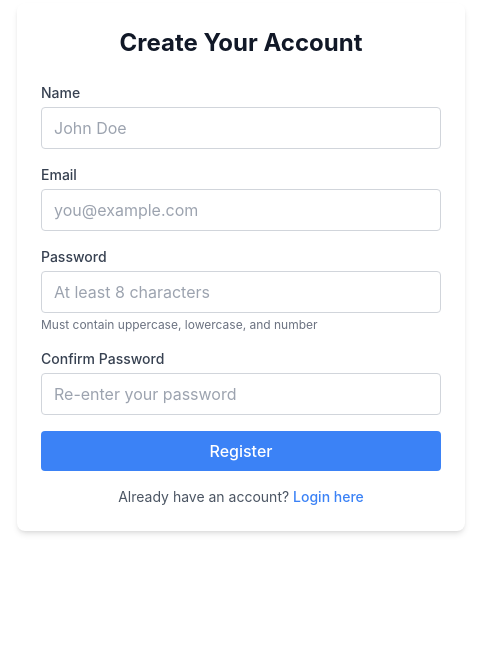
Test: RegisterForm › validates name minimum length
The image size is (483, 648).
Type "A" into the field labelled "Name" at (241,128), box [41,107,441,149]
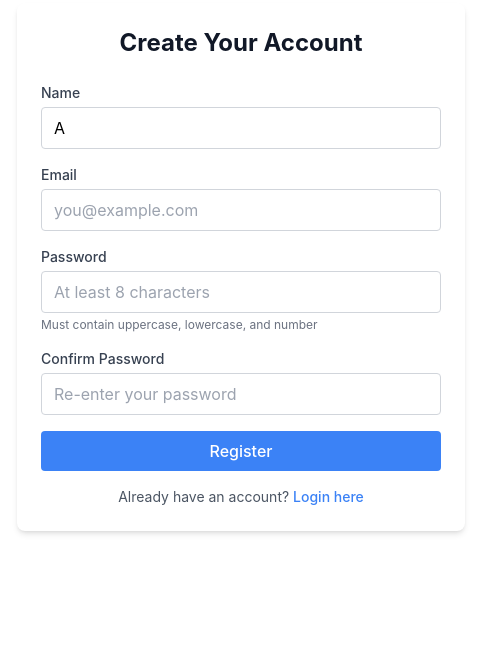
Click the button "Register" at (241,451), box [41,431,441,471]
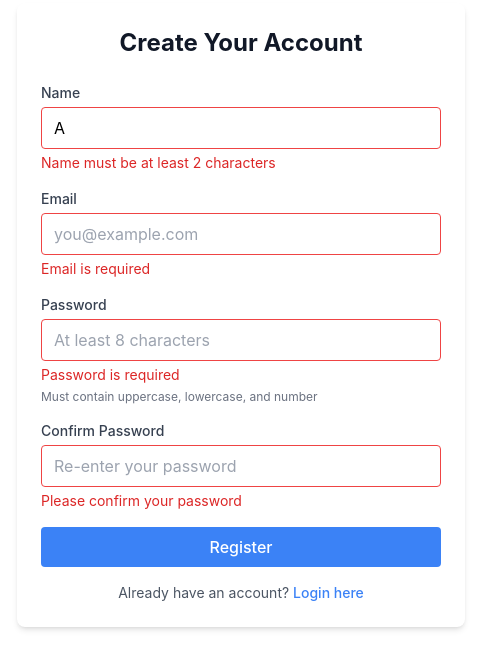
expect the text "Name must be at least 2 characters" is shown: met, box [41,154,276,171]
